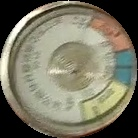green: (113, 50, 136, 89)
red: (91, 12, 132, 52)
yellow: (81, 80, 128, 123)
